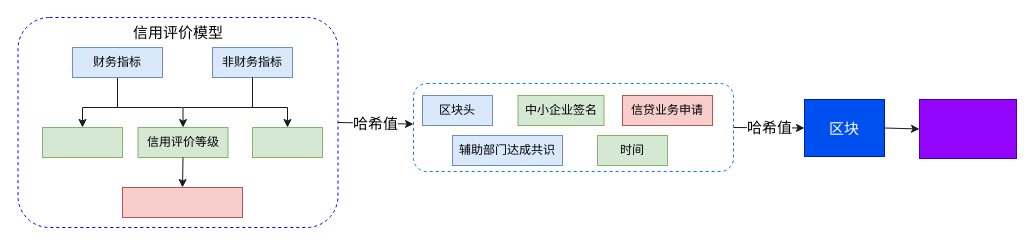
The diagram is 1034 pixels wide and 245 high, and some of its shapes have lost their labels. The shapes that lost their labels are listed below. From the top down, each one's centre as x and y in pixels, then its label:
At [82,142]: "企业数字标识".
At [287,142]: "评价时间".
At [967,128]: "区块链账本".
At [182,202]: "信用数据及企业数据".
